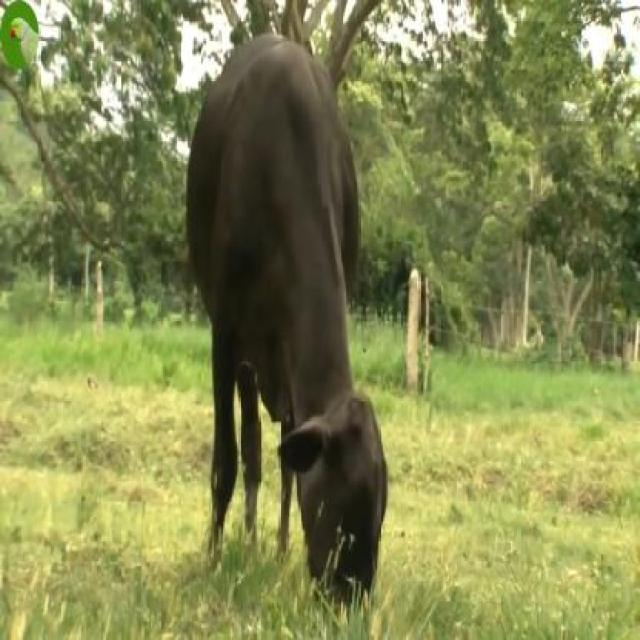Cow: (185, 37, 388, 600)
